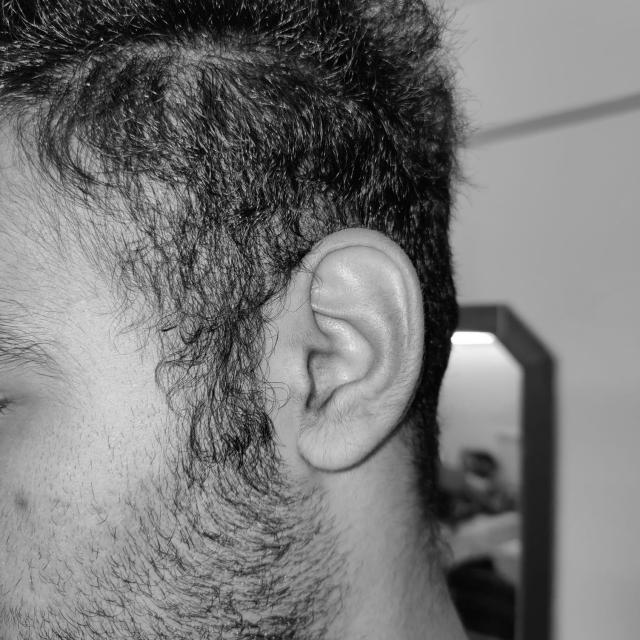ear: (265, 228, 423, 470), (285, 454, 289, 457), (289, 460, 291, 461)
